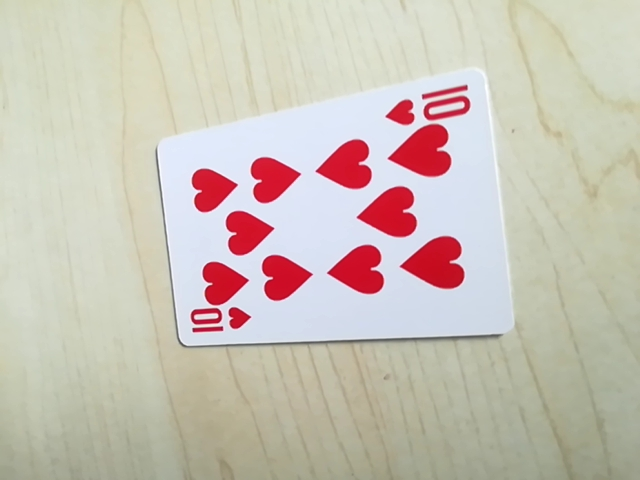hx 10: (384, 82, 474, 128), (184, 303, 255, 342)
